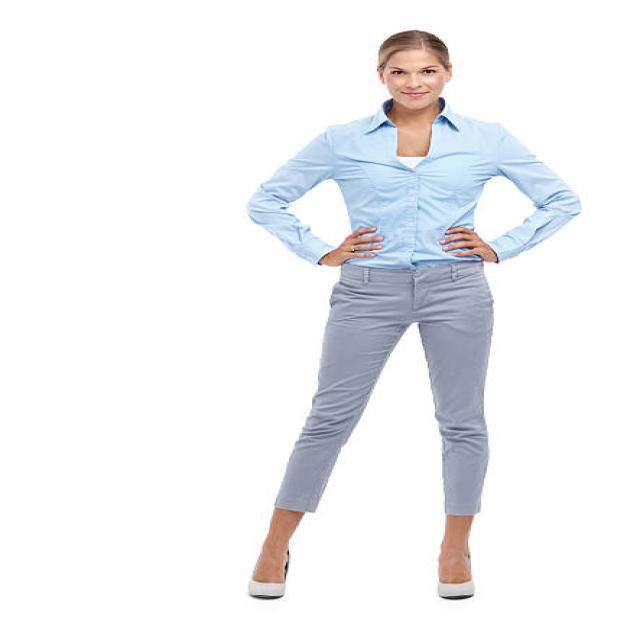Edited images: (242, 26, 582, 605)
